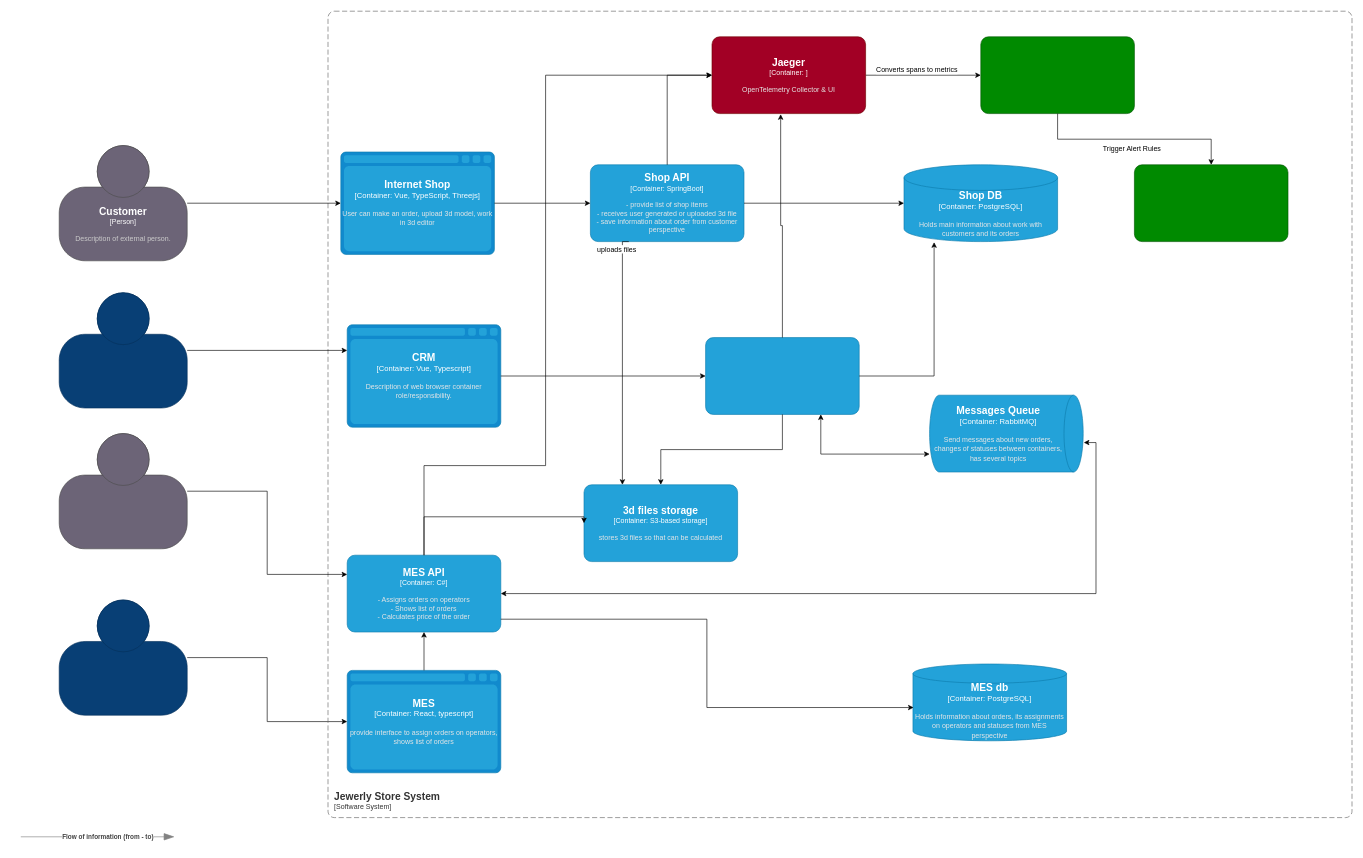
Image size: 1363x858. Some labels were removed from this diagram. Here are the shapes that lost their labels. From the top down, the box of each, then its label:
(980, 36, 1134, 114): Prometheus [Container: ] Metrics DB
(1134, 164, 1288, 242): Alertmanager [Container: ] Notification about SLA/Errors
(59, 292, 187, 408): Seller [Person] Operates with order, confirms manufacturing for the user
(705, 337, 859, 414): CRM API [Container: SpringBoot] Description of container role/responsibility.
(59, 433, 187, 549): API user [Person] Description of external person.
(59, 599, 187, 715): Operator [Person] Takes order in work, manufactures jewerly
